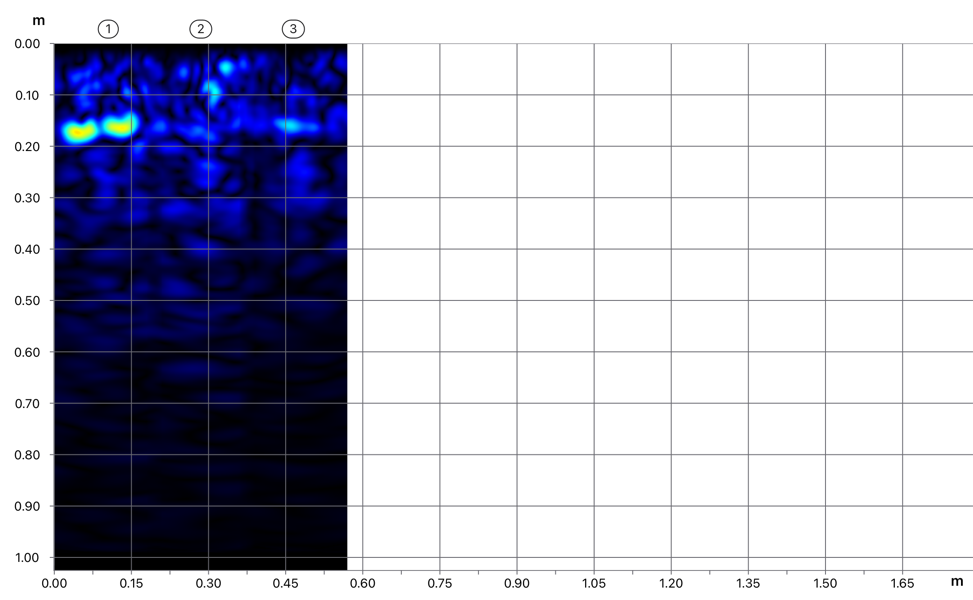crop: (3, 1, 348, 332)
